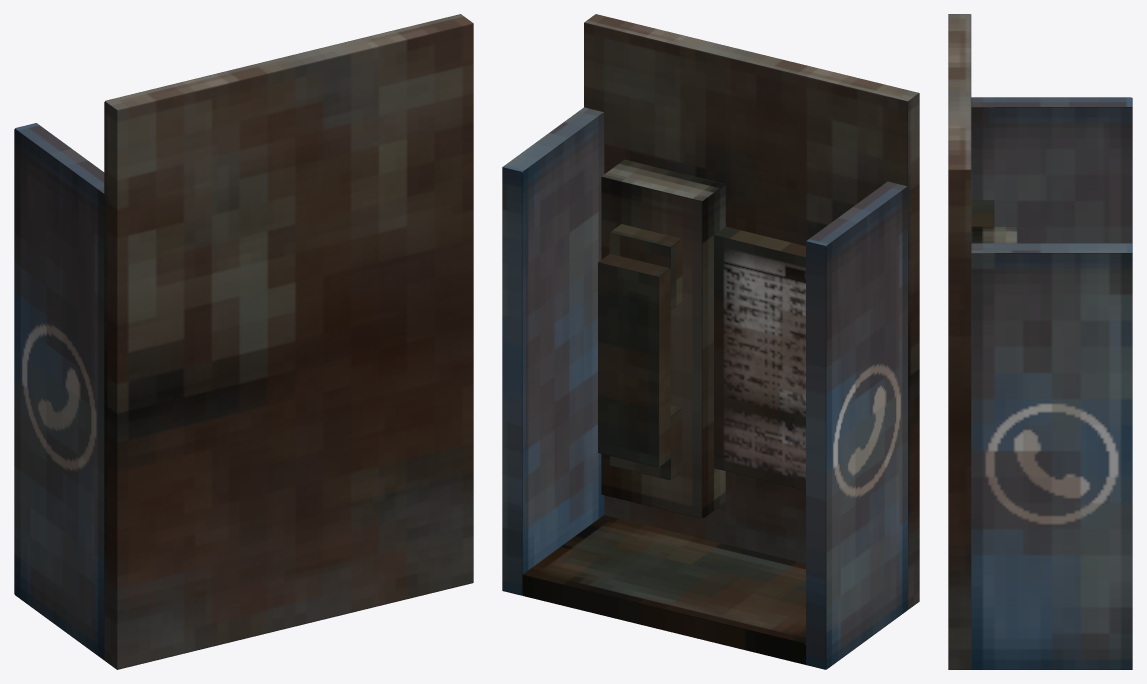
The model's file is phonebooth.obj.
3 views of the same model, side by side, from view 1: azimuth 30°, elevation 25°; view 2: azimuth 150°, elevation 25°; view 3: azimuth 270°, elevation 25° (orthographic). The views are drawn at different scales.
Parts seen in each view (by area): view 1: nx, nz; view 2: nx, nz, ny, nF, nE, nA, nD, nB, nC; view 3: ny, nz, nx, nA, nE.
Part boxes in pixels (bbox=[...]): nx: bbox=[104, 14, 473, 669]; nz: bbox=[14, 123, 104, 660]; nx: bbox=[584, 14, 919, 609]; nz: bbox=[806, 181, 907, 669]; ny: bbox=[502, 107, 604, 595]; nF: bbox=[522, 515, 805, 664]; nE: bbox=[714, 226, 805, 490]; nA: bbox=[601, 159, 725, 518]; nD: bbox=[598, 254, 670, 467]; nB: bbox=[609, 224, 682, 310]; nC: bbox=[609, 405, 682, 480]; ny: bbox=[971, 243, 1132, 669]; nz: bbox=[971, 97, 1132, 243]; nx: bbox=[948, 14, 971, 669]; nA: bbox=[971, 226, 1017, 243]; nE: bbox=[971, 200, 994, 226].
Bounding box in the file's own units: 1 × 1.5 × 0.5.
1 material, 1 textured.
